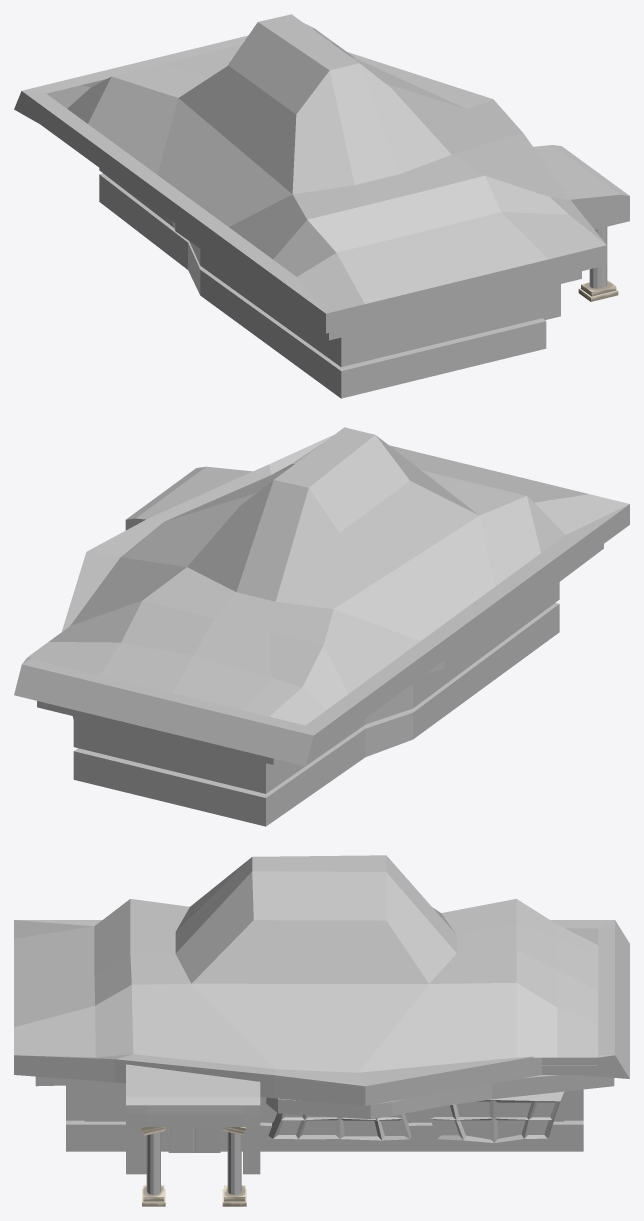
File: CASINHA1.fbx
3 views of the same model, one above another, from view 1: azimuth 30°, elevation 25°; view 2: azimuth 150°, elevation 25°; view 3: azimuth 270°, elevation 25° (orthographic). The views are drawn at different scales.
Parts seen in each view (by area): view 1: JANELA.001; view 2: JANELA.001; view 3: JANELA.001.
Part boxes in pixels (x1,y1,x2,y2): JANELA.001: (14,14,629,398); JANELA.001: (14,427,629,826); JANELA.001: (14,855,629,1206).
Size of the model in its own units: 1938 by 1235 by 2901.
